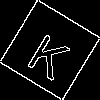K: (25, 25, 77, 82)
